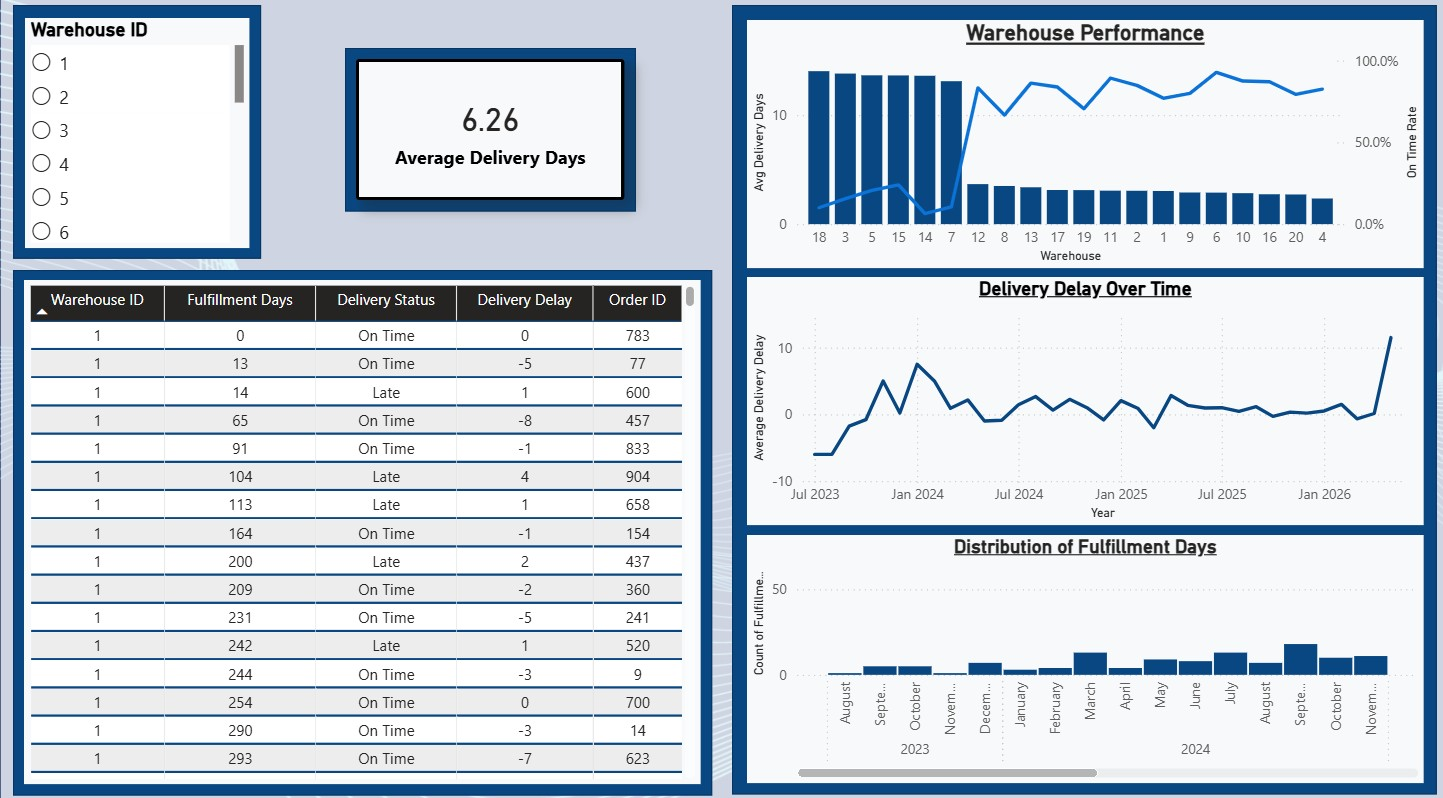

This screenshot's page, from the dashboard's own definition file:
{"tool":"powerbi","page":{"name":"Operations","canvas":[1280,720],"ordinal":1},"visuals":[{"type":"shape","box":[648,10,625,700],"z":0,"group":"g3"},{"type":"group","id":"g1","title":"Group 1","box":[305,48,258,145],"z":0},{"type":"shape","box":[305,48,258,145],"z":0,"group":"g1"},{"type":"shape","box":[11,245,620,466],"z":0,"group":"g2"},{"type":"shape","box":[11,10,220,225],"z":1000},{"type":"lineClusteredColumnComboChart","title":"Warehouse Performance","fields":{"Category":["supply_chain_db vw_warehouse_performance.Warehouse ID"],"Y":["Sum(supply_chain_db vw_warehouse_performance.Avg Delivery Days)"],"Y2":["Sum(supply_chain_db vw_warehouse_performance.On Time Rate)"]},"box":[661,23,600,220],"z":1000,"group":"g3"},{"type":"card","fields":{"Values":["Avg(supply_chain_db vw_operations_orders.Delivery Days)"]},"box":[315,58,238,125],"z":1000,"group":"g1"},{"type":"group","id":"g2","title":"Group 2","box":[11,245,620,466],"z":2000},{"type":"clusteredColumnChart","title":" Distribution of Fulfillment Days","fields":{"Category":["supply_chain_db vw_operations_orders.Required Date.Variation.Date Hierarchy.Year","supply_chain_db vw_operations_orders.Required Date.Variation.Date Hierarchy.Month"],"Y":["CountNonNull(supply_chain_db vw_operations_orders.Fulfillment Days)"]},"box":[661,480,600,220],"z":2000,"group":"g3"},{"type":"group","id":"g3","title":"Group 3","box":[648,10,625,700],"z":3000},{"type":"lineChart","title":"Delivery Delay Over Time","fields":{"Y":["Avg(supply_chain_db vw_operations_orders.Delivery Delay)"],"Category":["supply_chain_db vw_operations_orders.Delivery Date.Variation.Date Hierarchy.Year","supply_chain_db vw_operations_orders.Delivery Date.Variation.Date Hierarchy.Month"]},"box":[661,251.5,600,220],"z":3000,"group":"g3"},{"type":"listSlicer","fields":{"Values":["supply_chain_db vw_operations_orders.Warehouse ID"]},"box":[21,21,199,204],"z":4000},{"type":"tableEx","fields":{"Values":["supply_chain_db vw_operations_orders.Warehouse ID","supply_chain_db vw_operations_orders.Fulfillment Days","supply_chain_db vw_operations_orders.Delivery Status","supply_chain_db vw_operations_orders.Delivery Delay","supply_chain_db vw_operations_orders.Order ID"]},"box":[21,254.3,600,447.4],"z":4000,"group":"g2"}]}

Visuals, with their boxes in screenshot pixels (x1, y1, x2, y2), scaled from the page's 1280x720 canvas onto the 1443x798 screenshot:
shape: pyautogui.locateOnScreen(731, 11, 1435, 787)
"Group 1" group: pyautogui.locateOnScreen(344, 53, 635, 214)
shape: pyautogui.locateOnScreen(344, 53, 635, 214)
shape: pyautogui.locateOnScreen(12, 272, 711, 788)
shape: pyautogui.locateOnScreen(12, 11, 260, 260)
"Warehouse Performance" lineClusteredColumnComboChart: pyautogui.locateOnScreen(745, 25, 1422, 269)
card - Avg(supply_chain_db vw_operations_orders.Delivery Days): pyautogui.locateOnScreen(355, 64, 623, 203)
"Group 2" group: pyautogui.locateOnScreen(12, 272, 711, 788)
" Distribution of Fulfillment Days" clusteredColumnChart: pyautogui.locateOnScreen(745, 532, 1422, 776)
"Group 3" group: pyautogui.locateOnScreen(731, 11, 1435, 787)
"Delivery Delay Over Time" lineChart: pyautogui.locateOnScreen(745, 279, 1422, 523)
listSlicer - supply_chain_db vw_operations_orders.Warehouse ID: pyautogui.locateOnScreen(24, 23, 248, 249)
tableEx - supply_chain_db vw_operations_orders.Warehouse ID x supply_chain_db vw_operations_orders.Fulfillment Days: pyautogui.locateOnScreen(24, 282, 700, 778)
